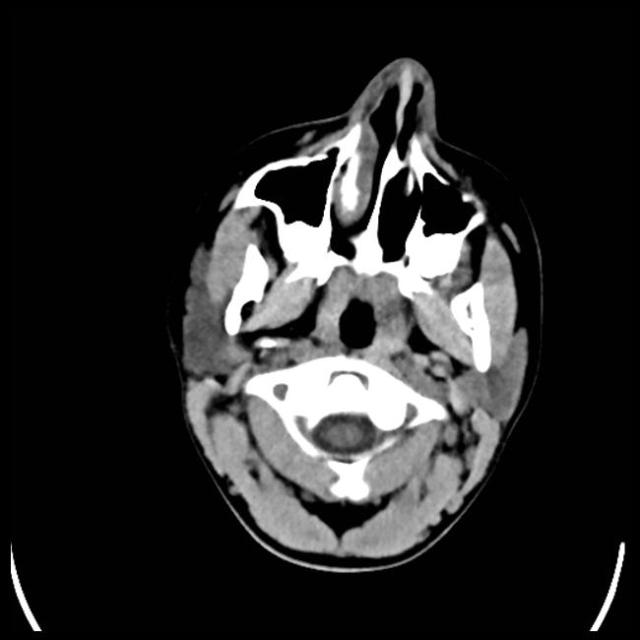lesion: (170, 54, 544, 573)
